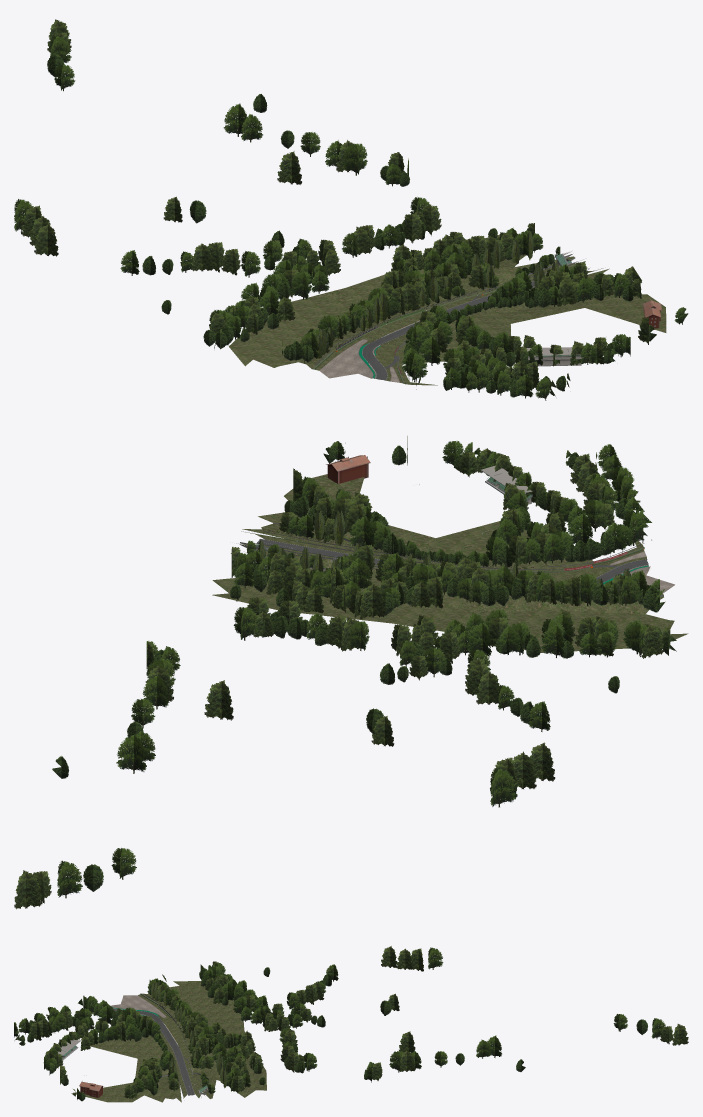
3 renders of one model, top to bottom at view 1: azimuth 30°, elevation 25°; view 2: azimuth 150°, elevation 25°; view 3: azimuth 270°, elevation 25°, orthographic. The views are drawn at different scales.
Parts seen in each view (by area): view 1: tile_t05; view 2: tile_t05; view 3: tile_t05.
Boxes of the visible parts, <box> form: tile_t05: <box>14,19,688,400</box>; tile_t05: <box>14,436,688,909</box>; tile_t05: <box>14,946,688,1102</box>.
Bounding box in the file's own units: 459 × 39.07 × 929.
27 materials, 27 textured.
